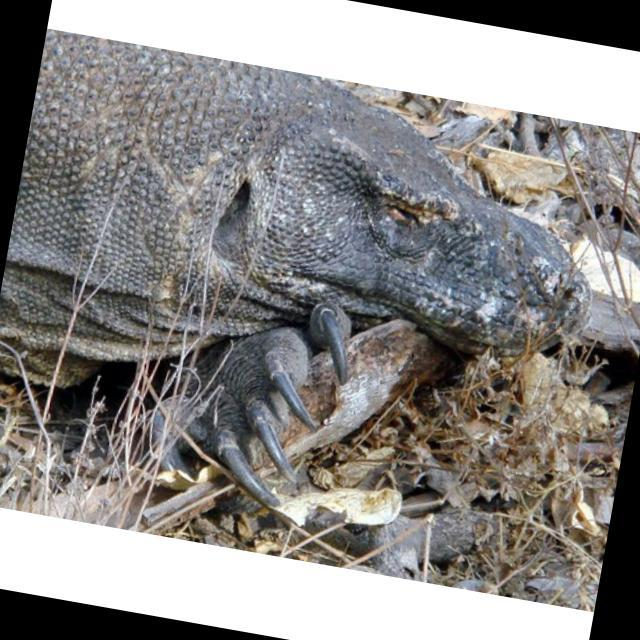KomodoDragon: (0, 29, 621, 556)
